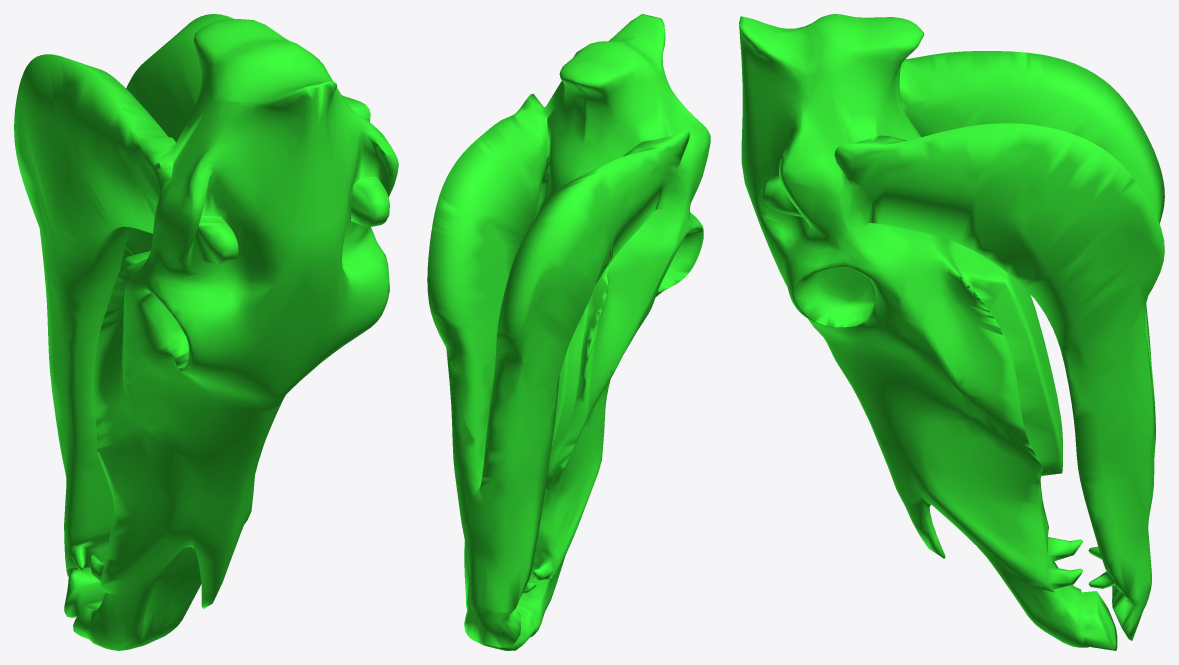
File: Horseskull.obj
The picture shows the model from 3 angles, left to right: view 1: azimuth 30°, elevation 25°; view 2: azimuth 150°, elevation 25°; view 3: azimuth 270°, elevation 25°; orthographic projection. The views are drawn at different scales.
Parts seen in each view (by area): view 1: Horseskull; view 2: Horseskull; view 3: Horseskull.
Boxes of the visible parts, x1,y1,x2,y2 form: Horseskull: (14, 14, 398, 650); Horseskull: (427, 14, 710, 650); Horseskull: (739, 14, 1164, 650).
Size of the model in its own units: 0.3297 by 1 by 0.6216.
